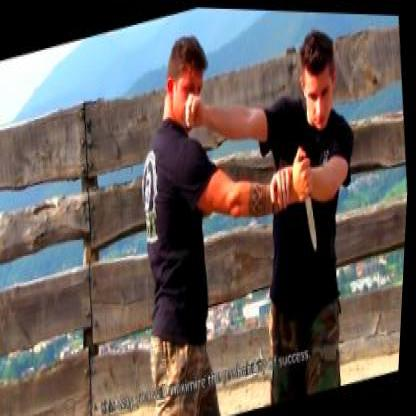knife: (292, 140, 324, 254)
